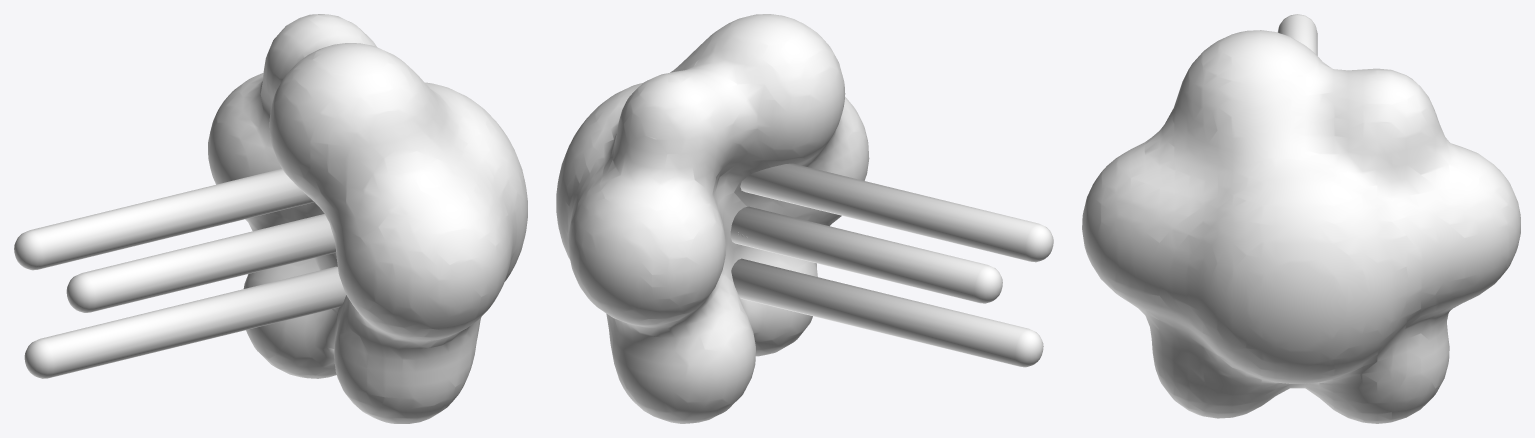
Rendered from Dashing_Away.gltf.
3 renders of one model, left to right at view 1: azimuth 30°, elevation 25°; view 2: azimuth 150°, elevation 25°; view 3: azimuth 270°, elevation 25°, orthographic. The views are drawn at different scales.
Parts seen in each view (by area): view 1: Mball.017; view 2: Mball.017; view 3: Mball.017.
Part boxes in pixels (left/top/right/bottom): Mball.017: left=14, top=14, right=527, bottom=423; Mball.017: left=556, top=14, right=1053, bottom=423; Mball.017: left=1082, top=14, right=1520, bottom=423.
Size of the model in its own units: 2.16 by 1.56 by 1.68.
2 materials, 2 textured.
